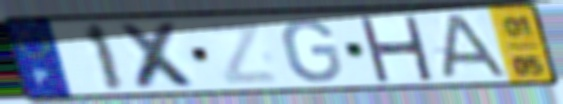1: (79, 21, 129, 94)
A: (435, 12, 513, 80)
G: (279, 17, 346, 85)
H: (355, 14, 437, 82)
X: (114, 20, 205, 91)
Z: (200, 19, 283, 87)
